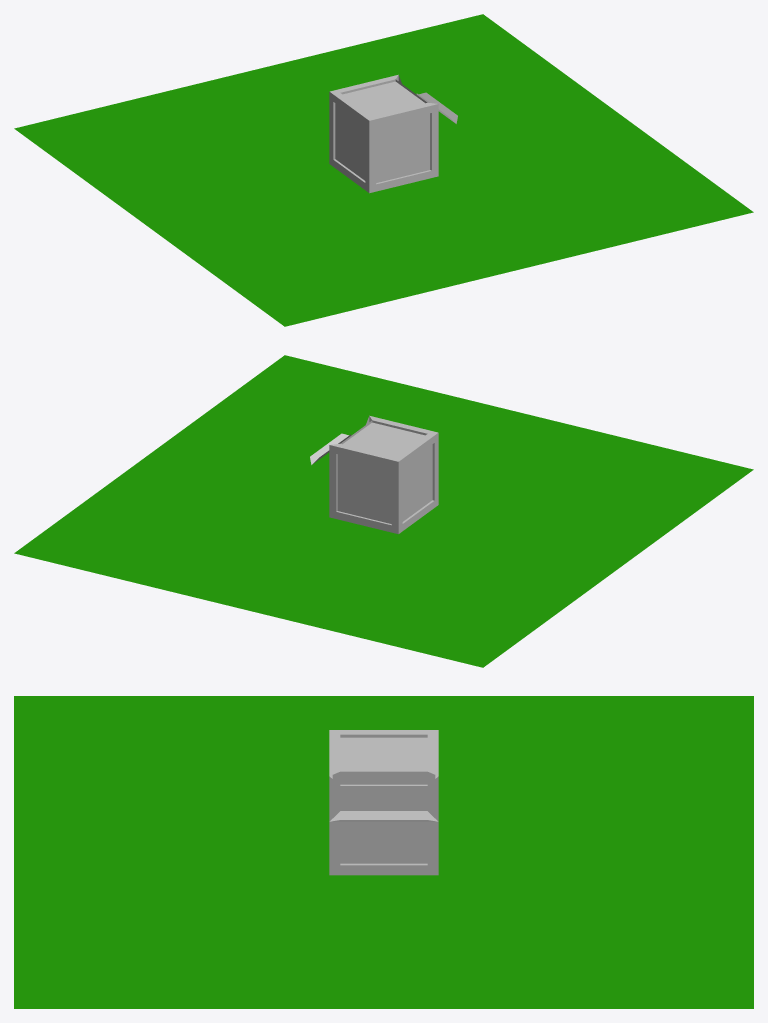
File: caixa_000040.obj
3 views of the same model, one above another, from view 1: azimuth 30°, elevation 25°; view 2: azimuth 150°, elevation 25°; view 3: azimuth 270°, elevation 25° (orthographic). The views are drawn at different scales.
Visible parts, largest first — view 1: Plane, Cube_Cube.003; view 2: Plane, Cube_Cube.003; view 3: Plane, Cube_Cube.003, Cube.002_Cube.001, Cube.001_Cube.000.
Part boxes in pixels (x1,y1,x2,y2): Plane: (14,14,753,326); Cube_Cube.003: (329,74,438,193); Plane: (14,355,753,667); Cube_Cube.003: (329,415,438,534); Plane: (14,696,753,1008); Cube_Cube.003: (329,730,438,875); Cube.002_Cube.001: (340,784,427,863); Cube.001_Cube.000: (329,811,438,821).
Size of the model in its own units: 13.55 by 2.01 by 13.55.
